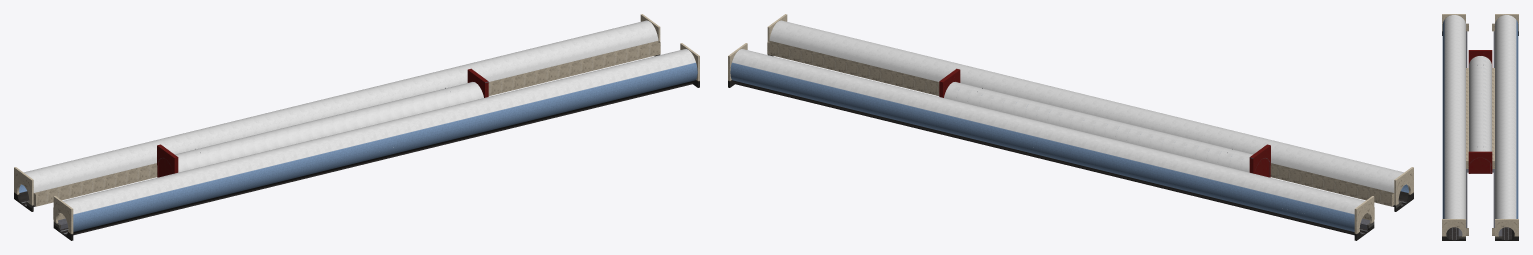
File: Prospect Vernadskogo.fbx
3 renders of one model, left to right at view 1: azimuth 30°, elevation 25°; view 2: azimuth 150°, elevation 25°; view 3: azimuth 270°, elevation 25°, orthographic. The views are drawn at different scales.
Parts seen in each view (by area): view 1: platform side wall, platform center part roof.001, platform joint.001, platform tracks.001, platform d side front wall.001|platform d side front wall|Du, platform d side front wall.002|platform d side front wall|Du, station deep hermetic door.001|station deep hermetic wall|Du; view 2: platform side wall, platform center part roof.001, platform joint.001, platform tracks.001, platform d side front wall.002|platform d side front wall|Du, platform d side front wall.001|platform d side front wall|Du, station deep hermetic door.001|station deep hermetic wall|Du; view 3: platform side wall, platform center part roof.001, platform joint.001, platform, platform d side front wall.004|platform d side front wall|Du, platform d side front wall.003|platform d side front wall|Du, station deep hermetic door.002|station deep hermetic door|Du, station deep hermetic door.002|station deep hermetic wall|Du, platform tracks.001, station deep hermetic door.001|station deep hermetic wall|Du, platform d side front wall.002|platform d side front wall|Du, platform d side front wall.001|platform d side front wall|Du.
Part boxes in pixels (box(x1,y1,x2,y2)): platform side wall: box(19, 20, 697, 233); platform center part roof.001: box(175, 82, 483, 172); platform joint.001: box(33, 40, 660, 220); platform tracks.001: box(21, 83, 692, 235); platform d side front wall.001|platform d side front wall|Du: box(53, 196, 73, 240); platform d side front wall.002|platform d side front wall|Du: box(14, 167, 33, 211); station deep hermetic door.001|station deep hermetic wall|Du: box(157, 144, 178, 177); platform side wall: box(730, 20, 1408, 233); platform center part roof.001: box(944, 82, 1252, 172); platform joint.001: box(767, 40, 1394, 220); platform tracks.001: box(735, 83, 1406, 235); platform d side front wall.002|platform d side front wall|Du: box(1354, 196, 1374, 240); platform d side front wall.001|platform d side front wall|Du: box(1394, 167, 1413, 211); station deep hermetic door.001|station deep hermetic wall|Du: box(1249, 144, 1270, 177); platform side wall: box(1442, 15, 1518, 238); platform center part roof.001: box(1469, 56, 1491, 151); platform joint.001: box(1466, 23, 1494, 235); platform: box(1458, 31, 1502, 235); platform d side front wall.004|platform d side front wall|Du: box(1495, 219, 1518, 240); platform d side front wall.003|platform d side front wall|Du: box(1442, 219, 1465, 240); station deep hermetic door.002|station deep hermetic door|Du: box(1470, 157, 1490, 173); station deep hermetic door.002|station deep hermetic wall|Du: box(1468, 151, 1492, 173); platform tracks.001: box(1449, 227, 1511, 239); station deep hermetic door.001|station deep hermetic wall|Du: box(1468, 50, 1492, 67); platform d side front wall.002|platform d side front wall|Du: box(1495, 14, 1518, 35); platform d side front wall.001|platform d side front wall|Du: box(1442, 14, 1465, 35).
Bounding box in the file's own units: 2620 × 16600 × 965.
